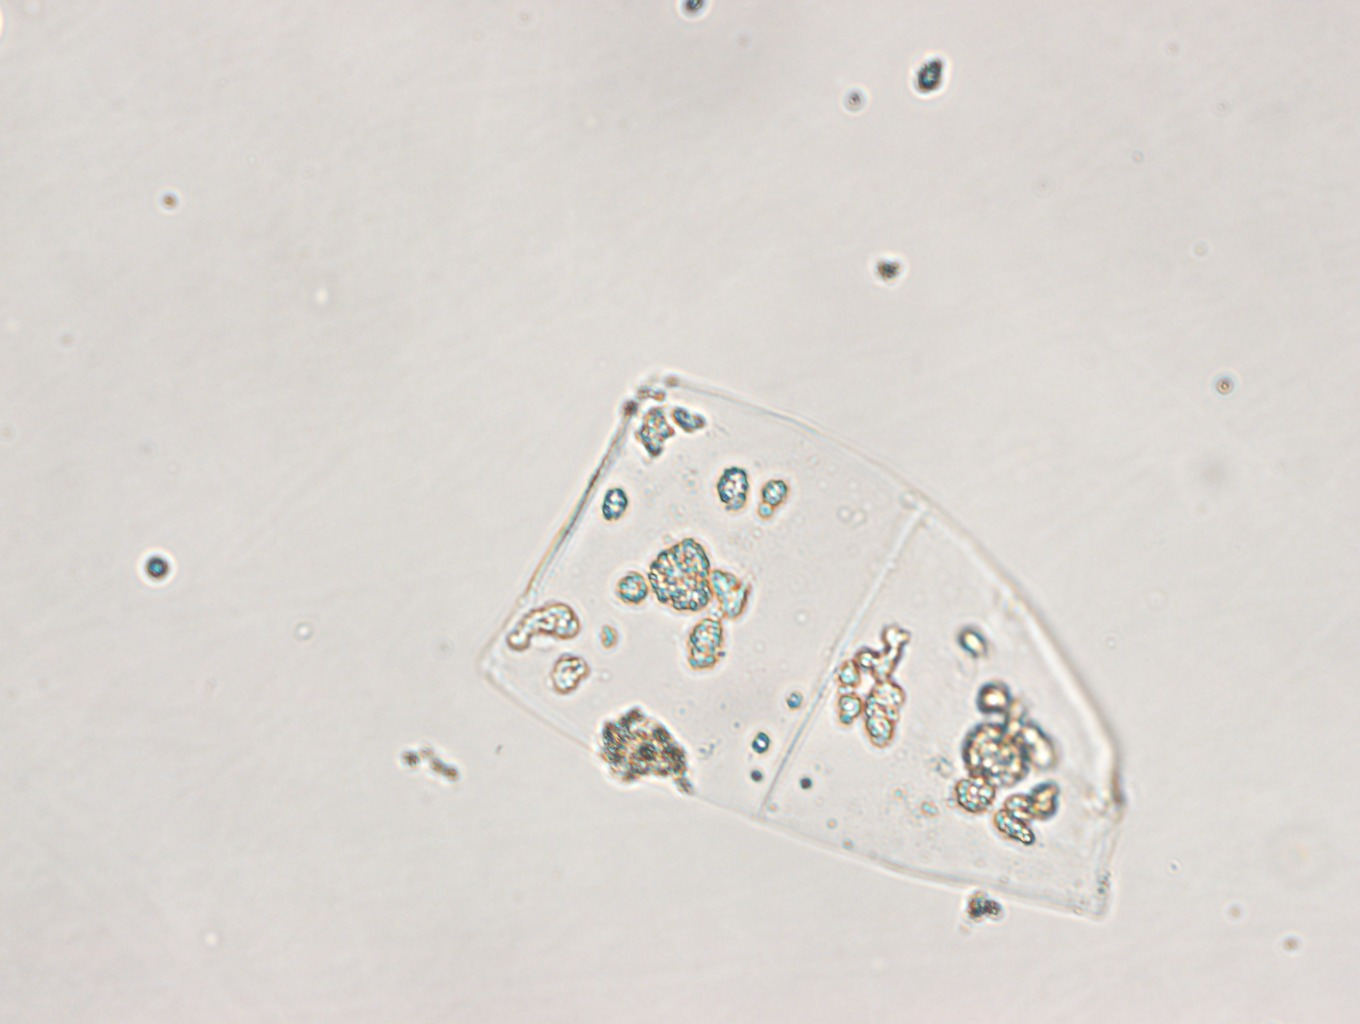helicotheca: (470, 370, 1123, 920)
